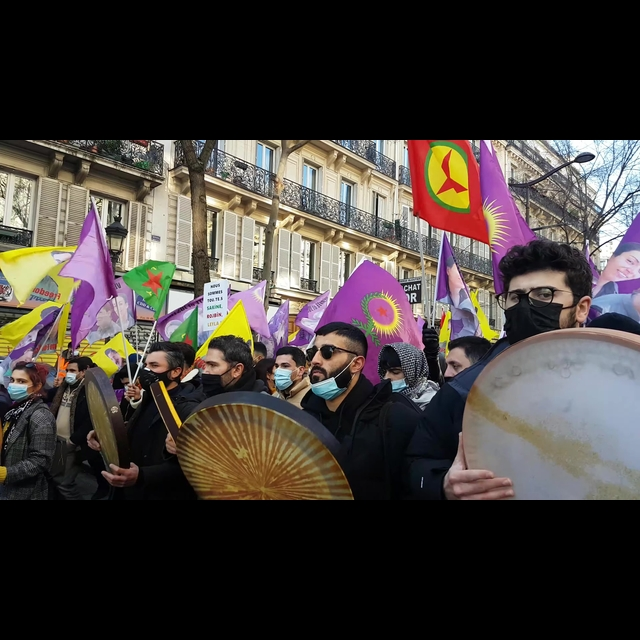PKK: (415, 144, 470, 216)
YPJ: (134, 263, 168, 301)
